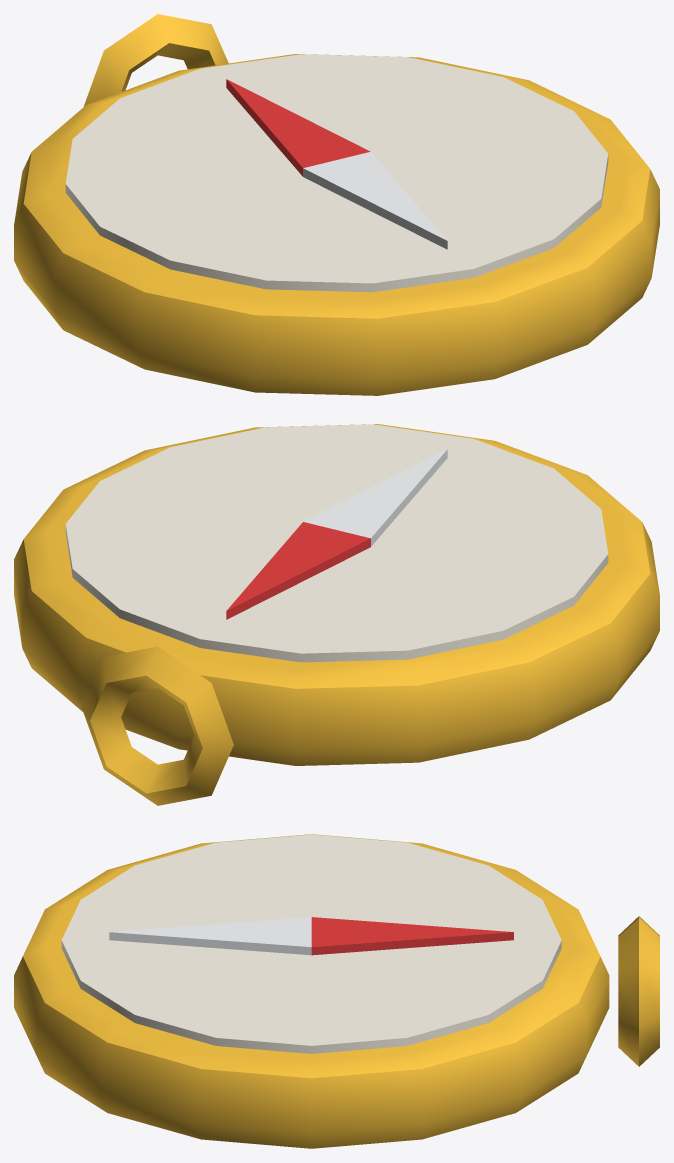
Rendered from Compass.fbx.
3 renders of one model, top to bottom at view 1: azimuth 30°, elevation 25°; view 2: azimuth 150°, elevation 25°; view 3: azimuth 270°, elevation 25°, orthographic. The views are drawn at different scales.
Parts seen in each view (by area): view 1: Compass; view 2: Compass; view 3: Compass.
Boxes of the visible parts, x1,y1,x2,y2 form: Compass: (14,14,659,395); Compass: (14,424,659,805); Compass: (14,834,659,1148).
Size of the model in its own units: 1 by 0.27 by 1.09.
Materials: 1 (1 with a texture image).
